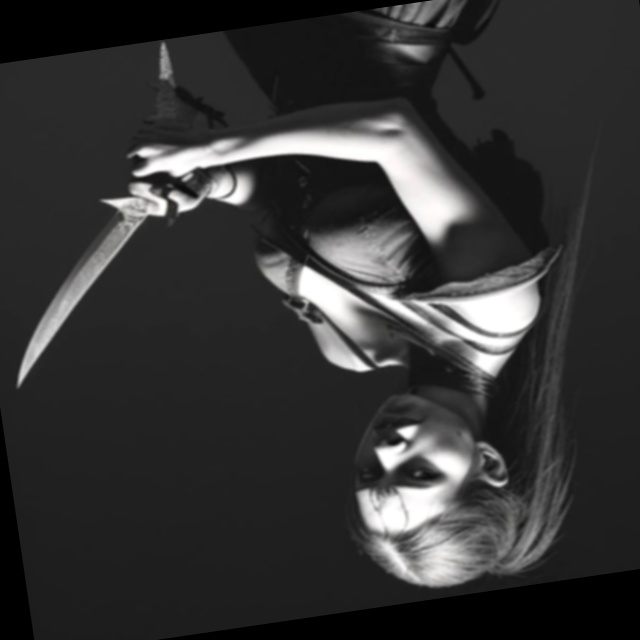Sharp-Object: (0, 29, 287, 397)
